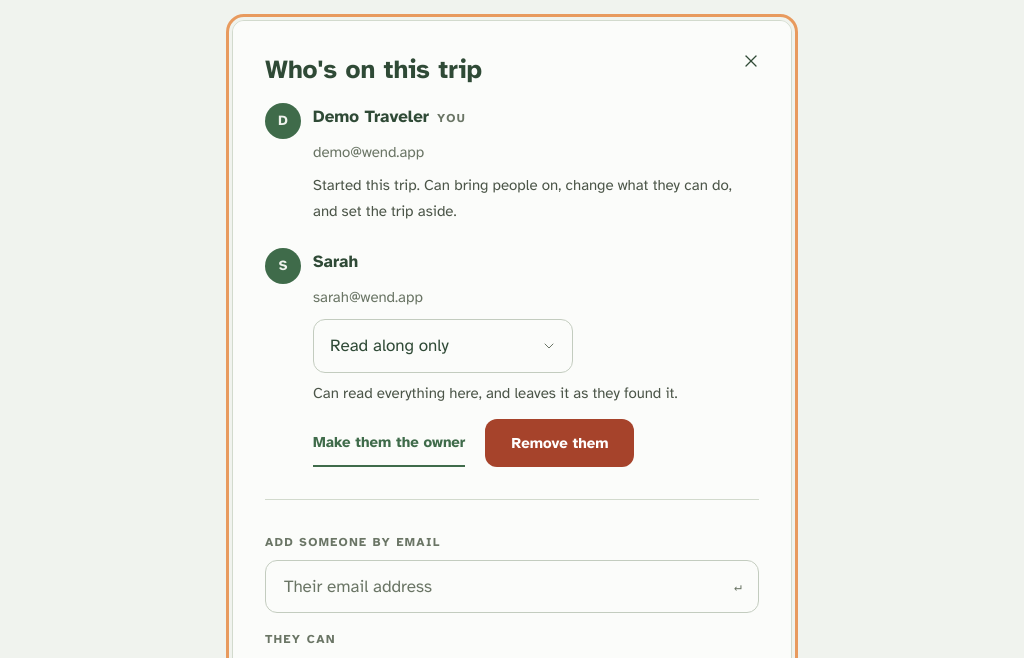
Test: SharePanel › lets an owner change what someone can do
Expected: the text "Sarah" is shown, [313, 248, 358, 277]
Select "Add and change things" in the dropdown named "What Sarah can do": coordinates (443, 346) [313, 319, 573, 374]
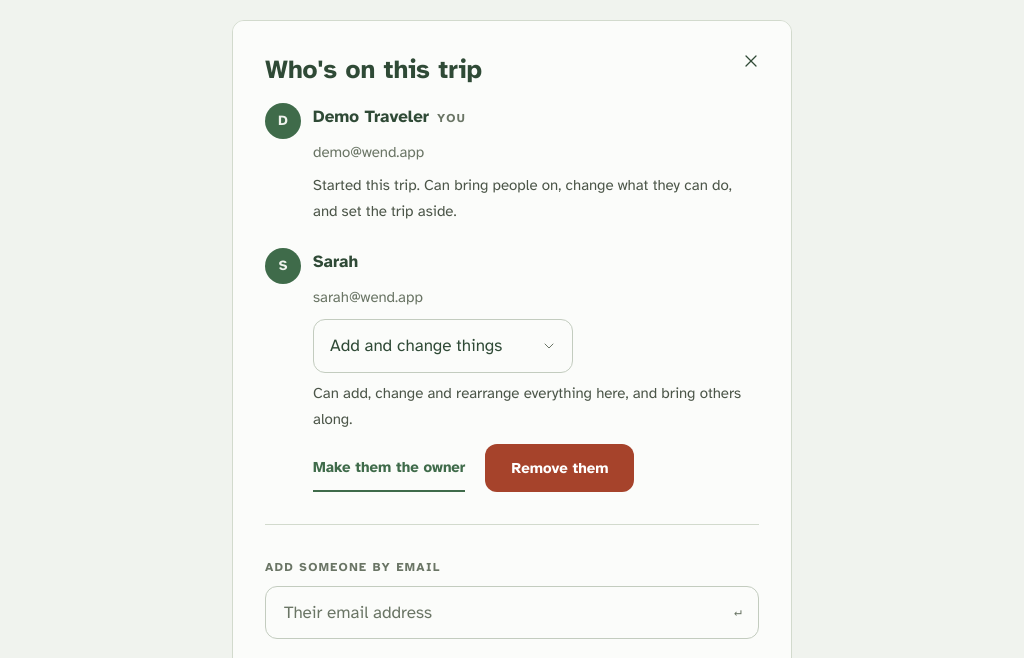
Expected: the text "Can add, change and rearrange everything here, and bring others along." is shown, [313, 382, 759, 432]
